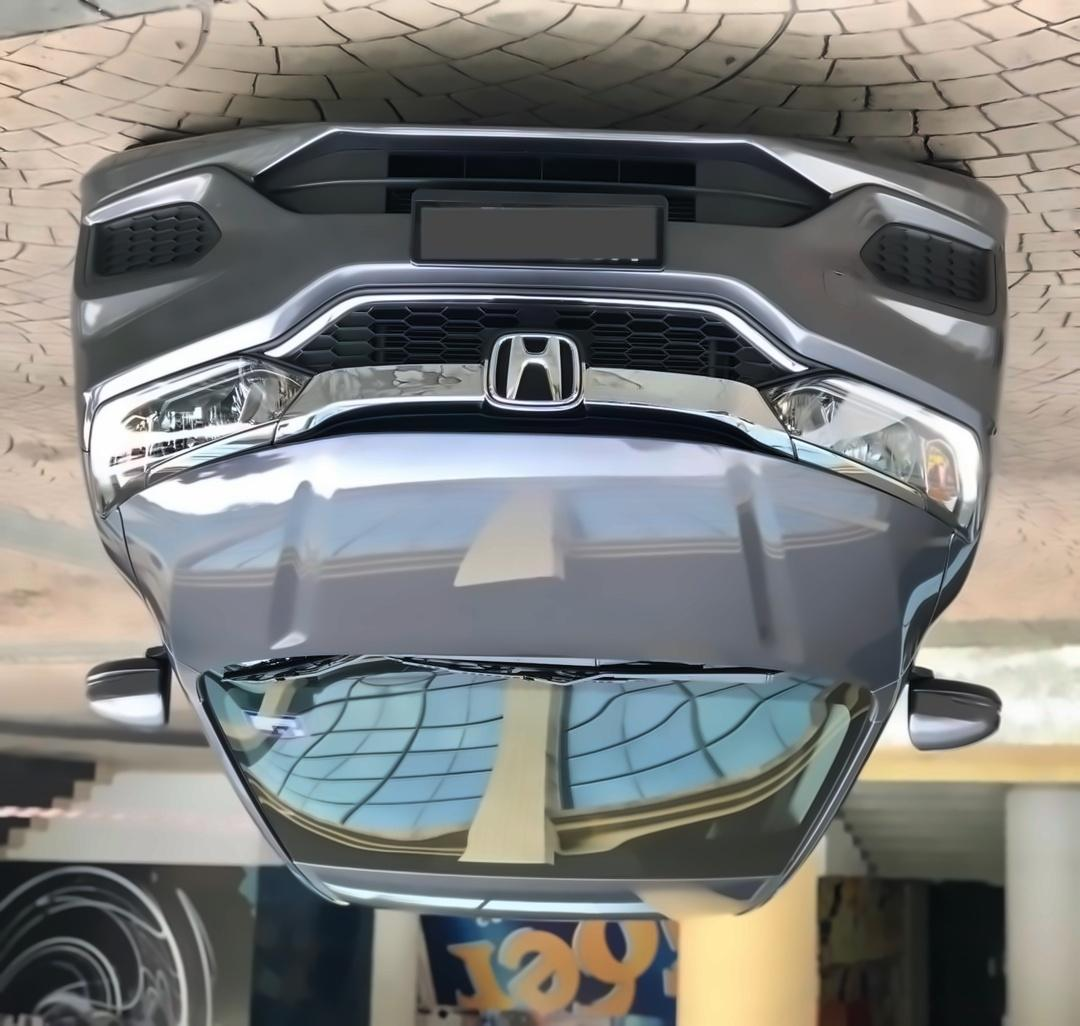Car hood: (113, 426, 962, 686)
Front bumper: (60, 116, 1023, 372)
Headlight - -L-: (75, 341, 327, 520)
Headlight - -R-: (745, 358, 996, 545)
Side mirror - -L-: (73, 633, 198, 763)
Side mirror - -R-: (895, 653, 1016, 783)
